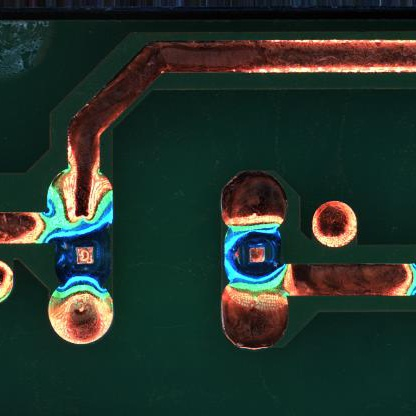spot: (51, 222, 110, 287), (222, 223, 282, 286)
